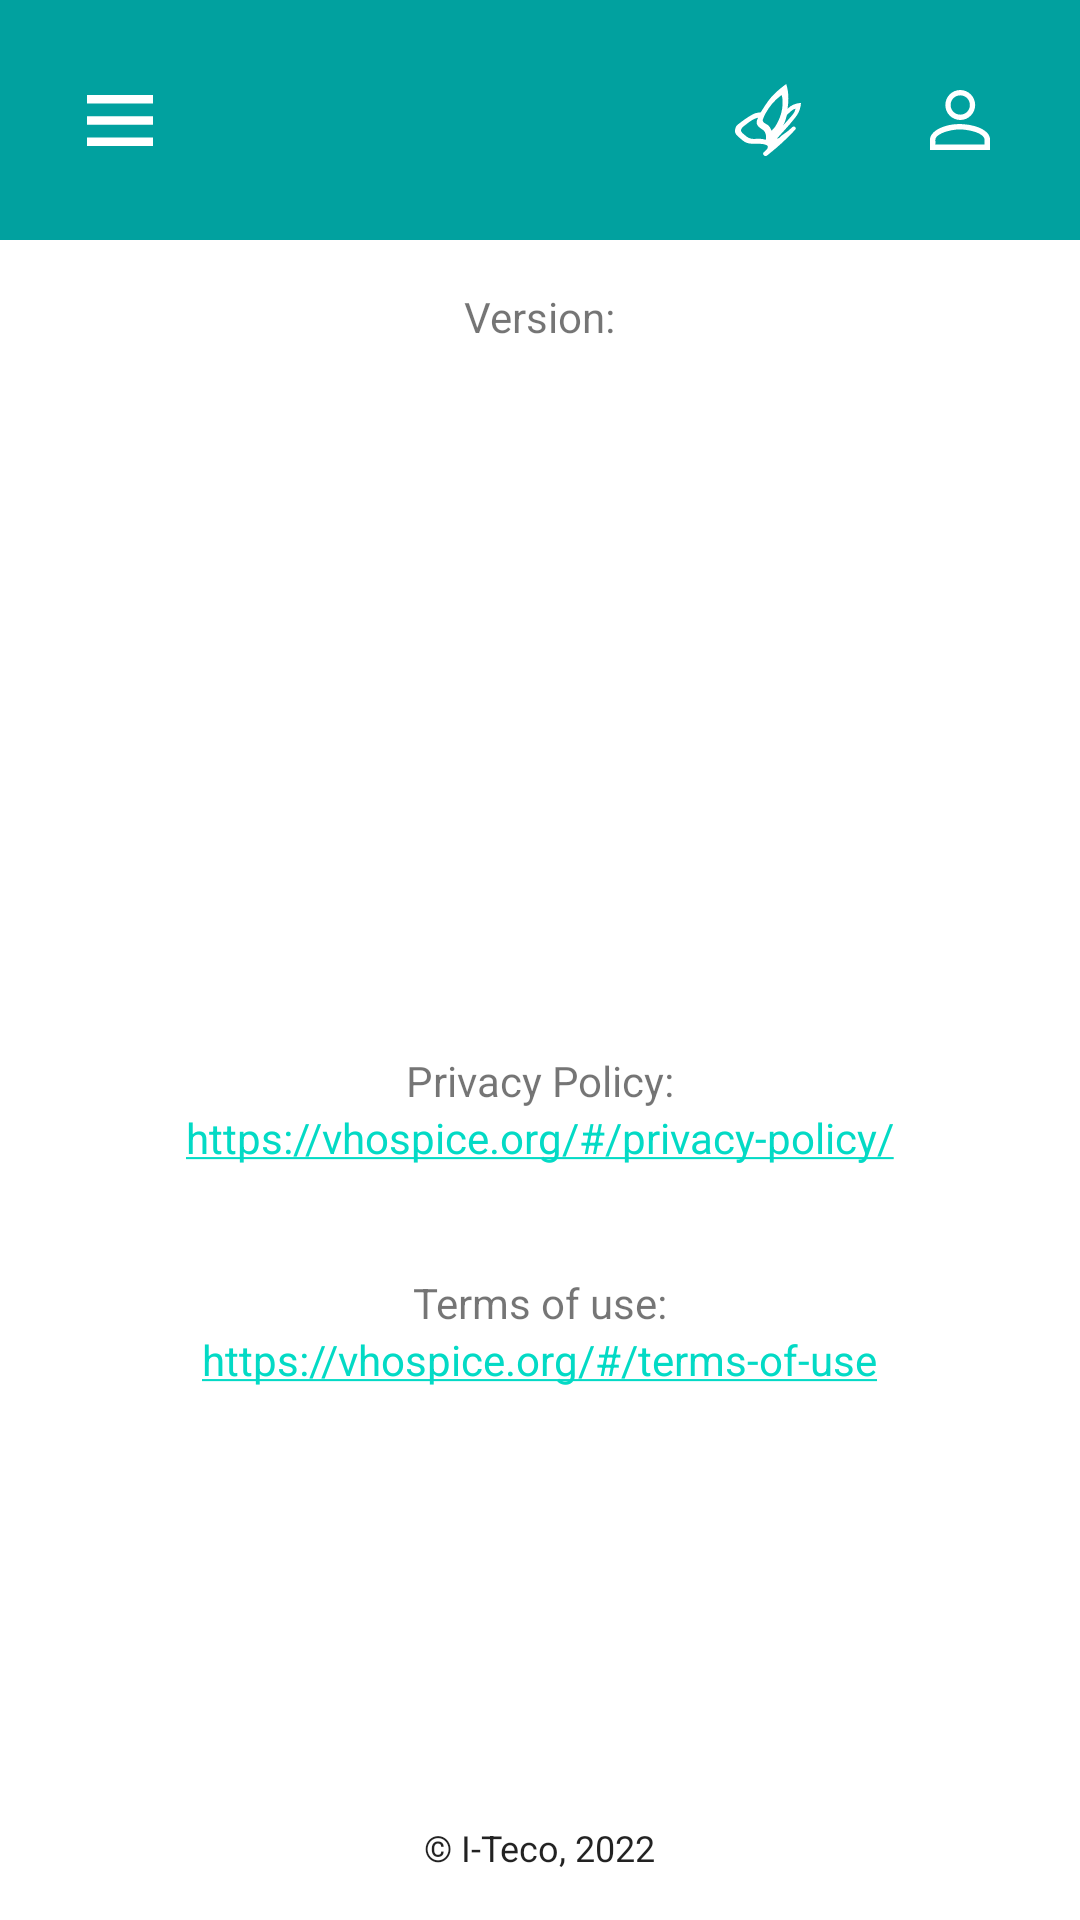

Where icons sit on this 1080*1920 app screen, as [left=x1, top=y1, right=x2, bottom=y2]:
Authorization: [left=930, top=90, right=990, bottom=150]
Main menu: [left=87, top=95, right=153, bottom=146]
